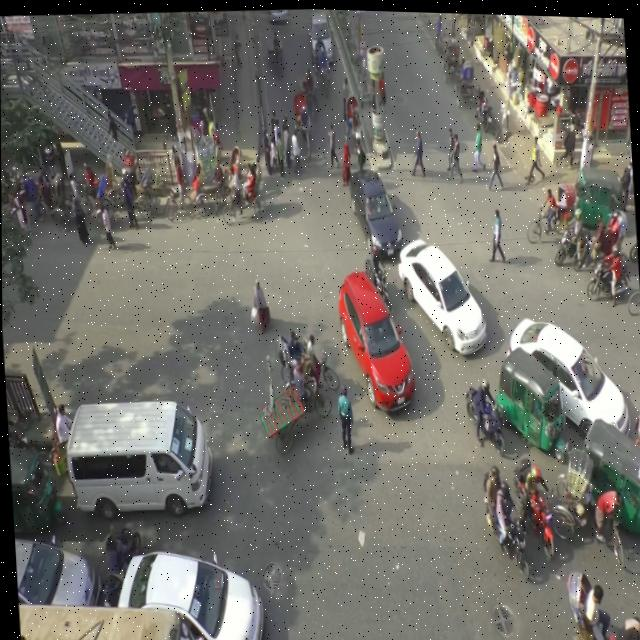cng: (579, 383, 640, 547), (493, 348, 568, 448), (7, 428, 64, 538), (569, 153, 626, 239)
rikshaw: (555, 438, 625, 574), (268, 313, 335, 398), (217, 153, 272, 248), (513, 170, 581, 237), (22, 161, 76, 235), (161, 151, 206, 234), (110, 155, 159, 221), (79, 157, 117, 223), (284, 89, 317, 164), (336, 87, 368, 162), (306, 29, 334, 98), (454, 42, 478, 116), (440, 38, 467, 88)
